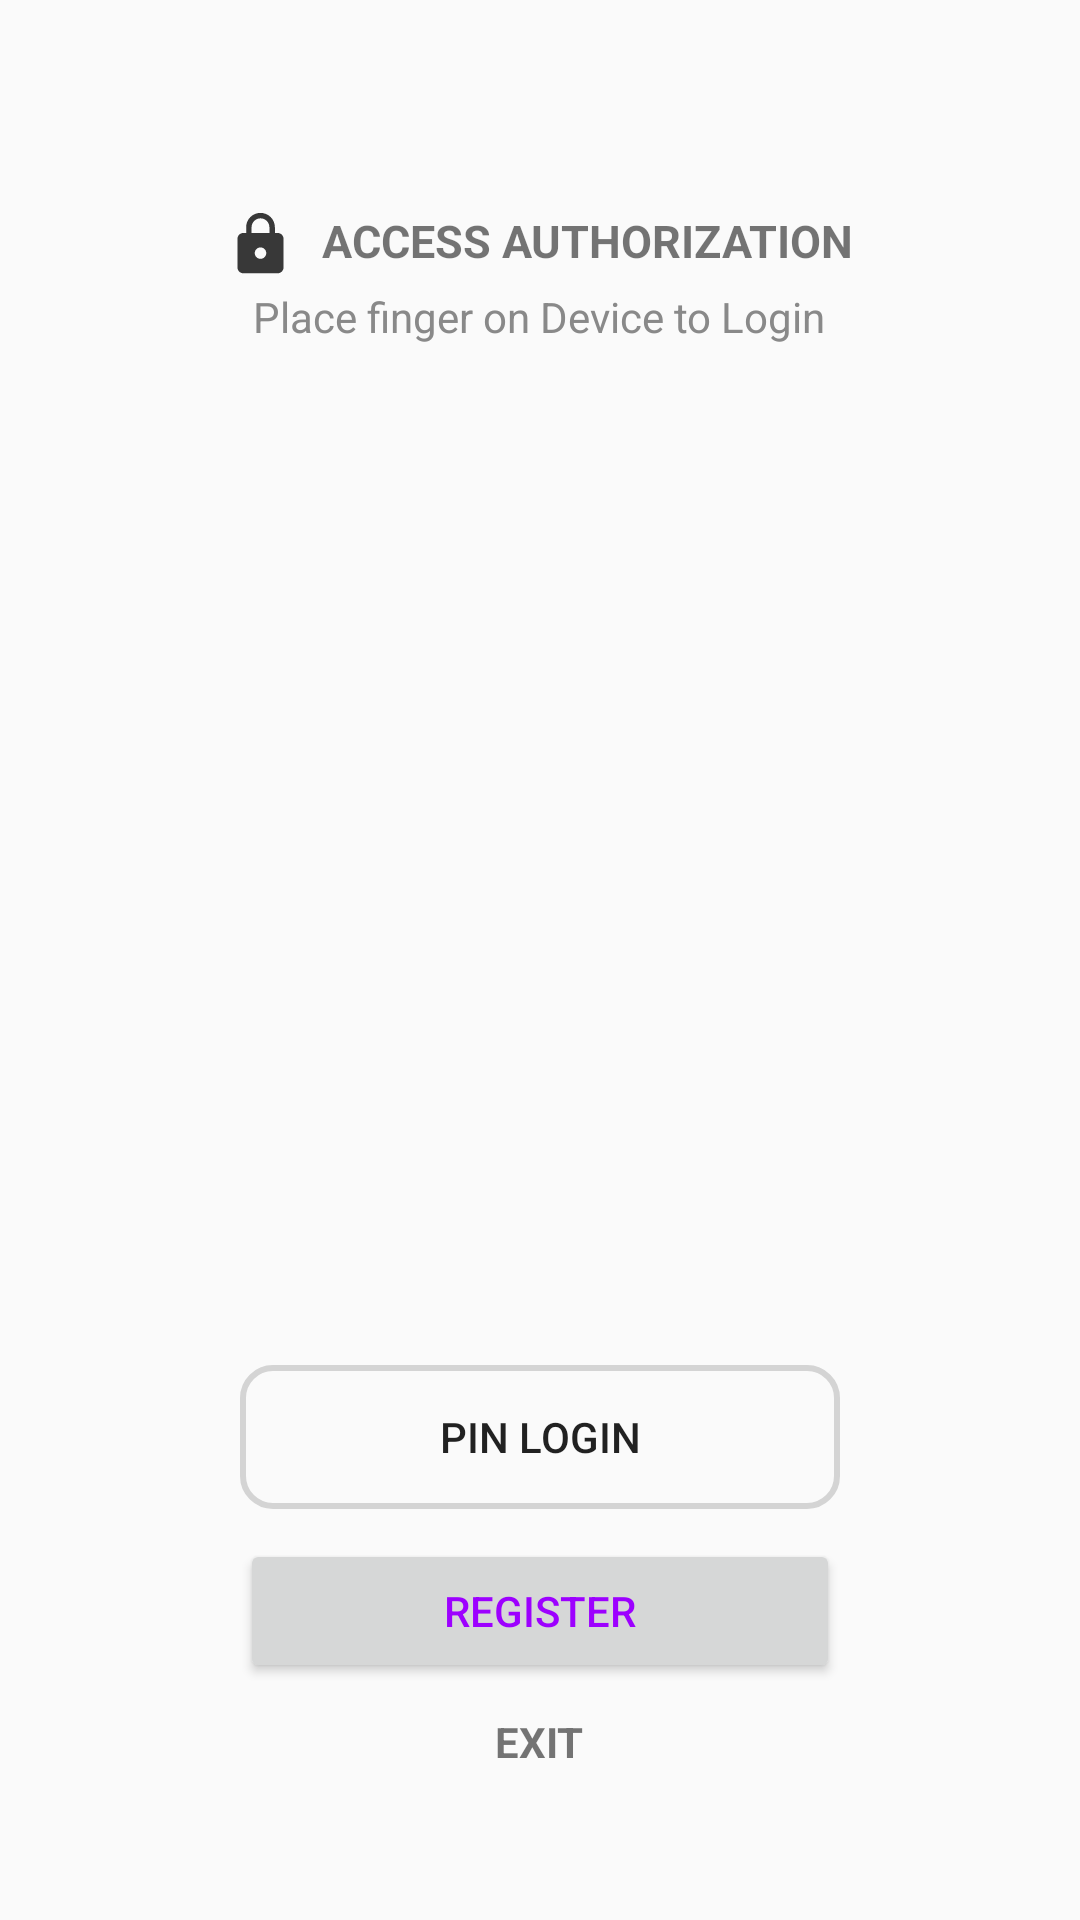

Where icons sit on this 1080*1920 app screen, as [x1=x1, y1=y1, x2=x2, y2=y2]:
lock: [x1=237, y1=213, x2=284, y2=274]
